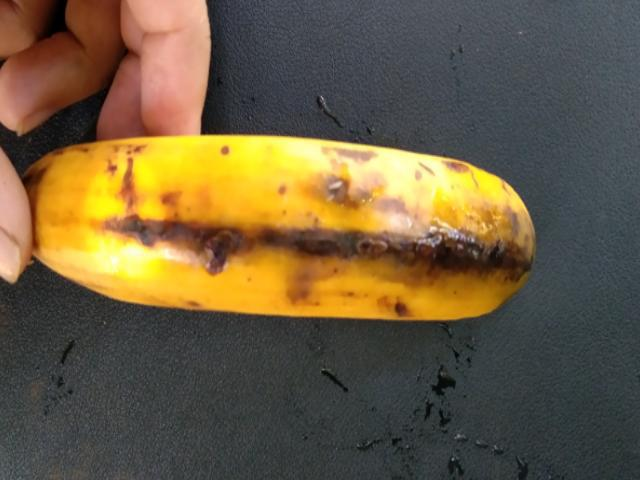overripe: (19, 112, 546, 348)
